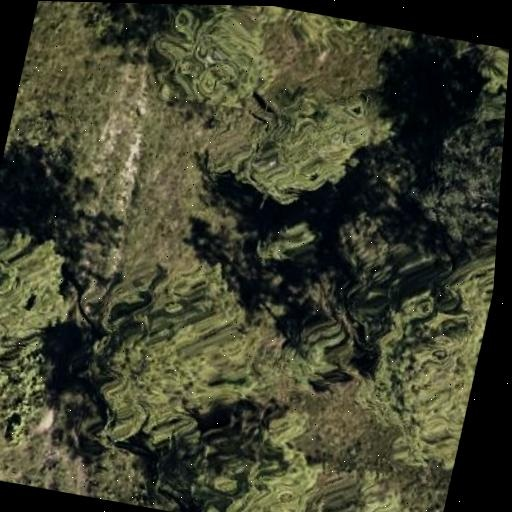tree-top: (69, 257, 270, 449), (346, 237, 497, 473), (7, 0, 161, 148), (0, 222, 86, 455), (246, 82, 392, 210), (141, 3, 295, 122), (258, 6, 415, 111), (392, 117, 505, 257), (186, 409, 328, 512), (84, 438, 204, 512), (314, 473, 410, 512), (0, 424, 37, 484)
